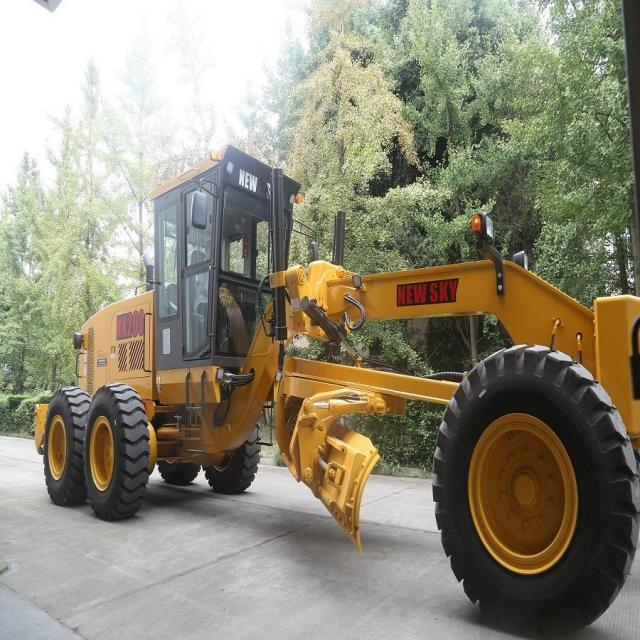Grader: (28, 136, 639, 634)
